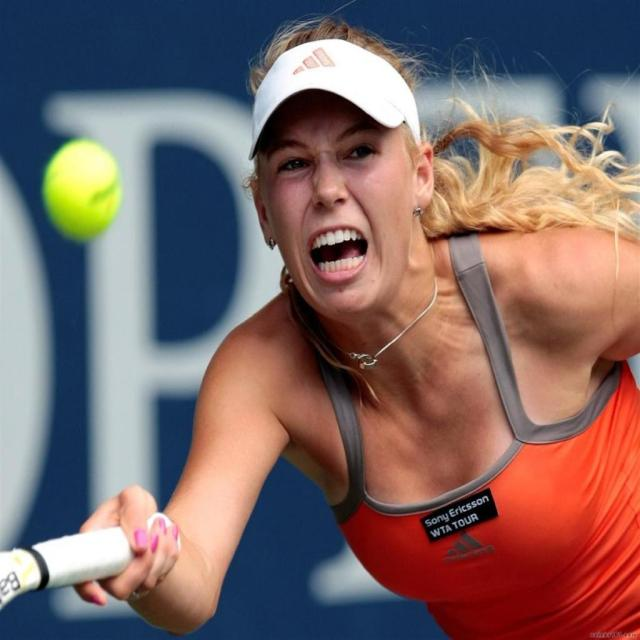Face: (262, 97, 418, 338)
